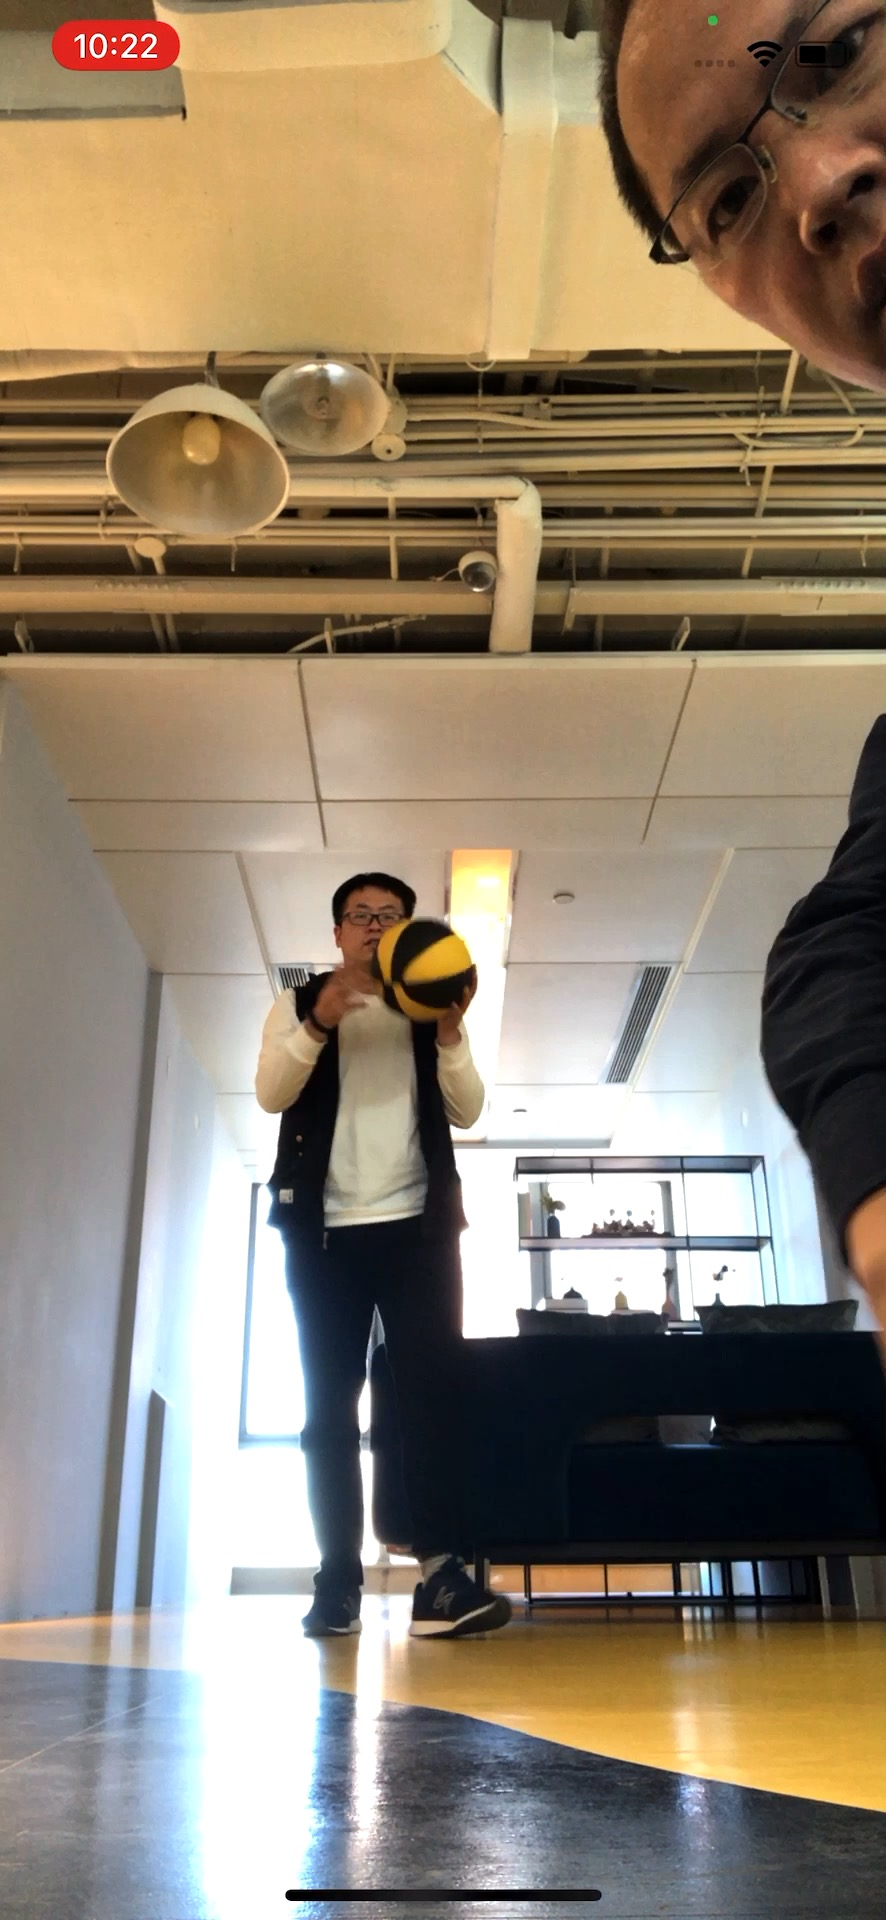ball: (376, 913, 480, 1019)
